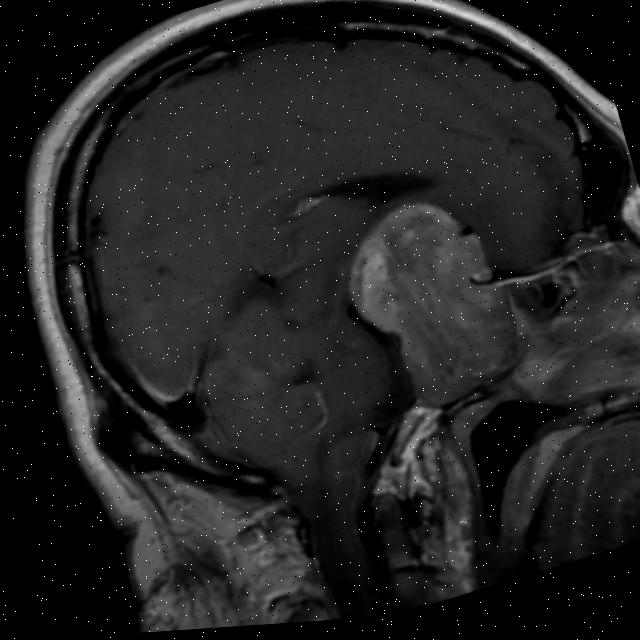Pituitary: (327, 181, 527, 424)
